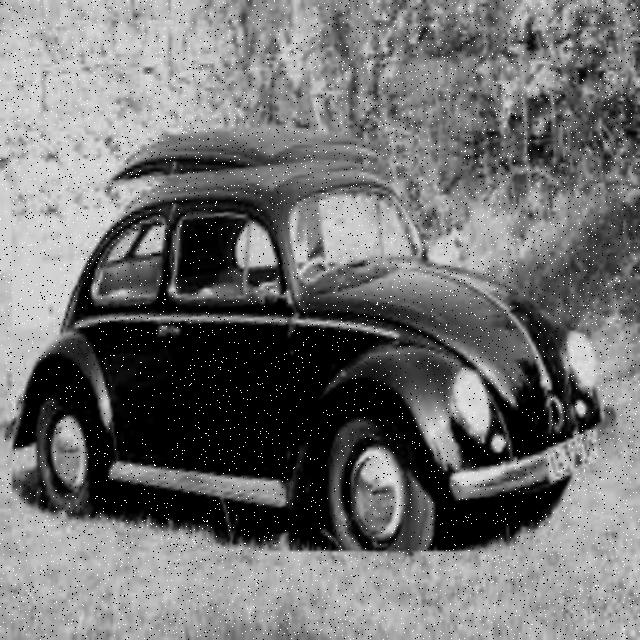car: (13, 133, 616, 552)
